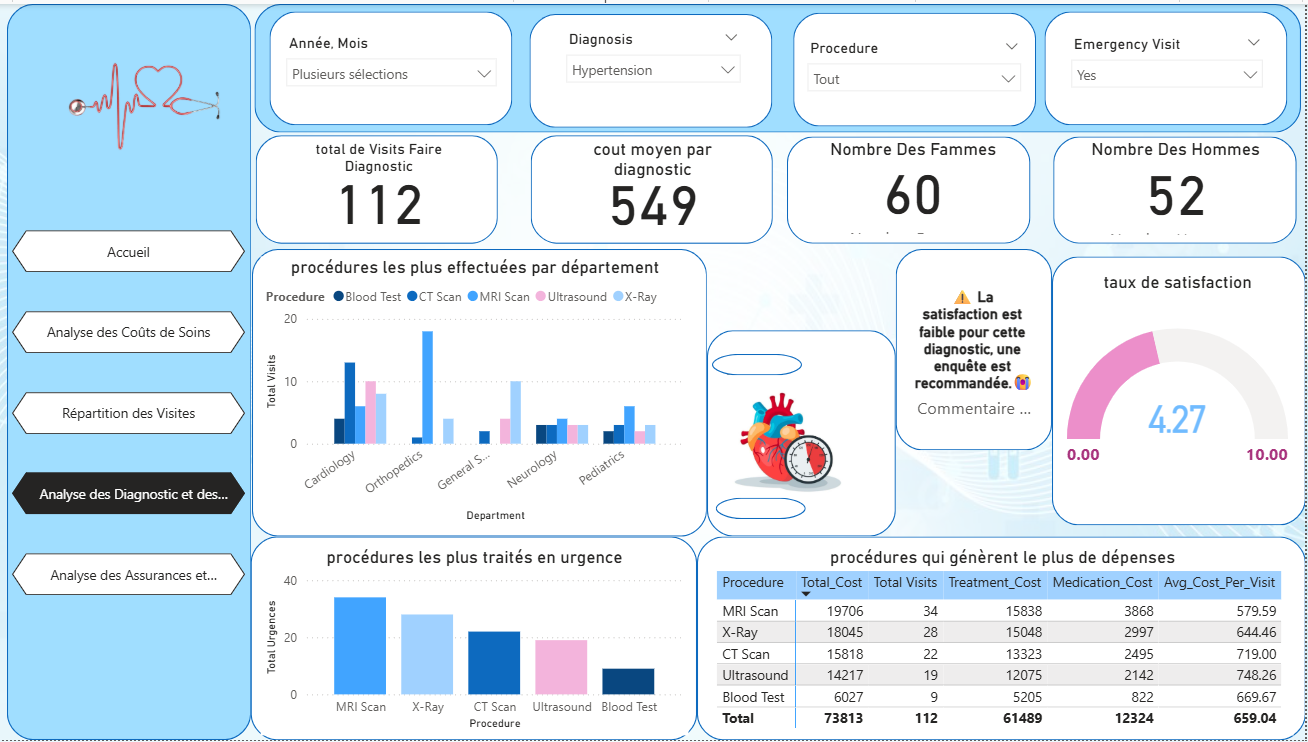

This screenshot's page, from the dashboard's own definition file:
{"tool":"powerbi","page":{"name":" Analyse des Diagnostic et des Procedures","canvas":[1280,720],"ordinal":3},"visuals":[{"type":"shape","box":[10,0,238.8,720],"z":0},{"type":"shape","box":[251.6,0,1023.7,125.8],"z":1000},{"type":"image","box":[41.2,31.2,207.5,127.5],"z":2000},{"type":"shape","box":[1033.6,129.5,238,104.8],"z":3000},{"type":"shape","box":[773.3,129.5,238,104.8],"z":4000},{"type":"shape","box":[521.7,128.3,236.8,106.1],"z":5000},{"type":"shape","box":[252.8,128.3,236.8,106.1],"z":6000},{"type":"card","title":"Nombre Des Hommes","fields":{"Values":["Fait_visits.Nombre_Hommes"]},"box":[1058,131.7,190.7,98.8],"z":7000},{"type":"card","title":"     Nombre Des Fammes","fields":{"Values":["Fait_visits.Nombre_Femmes"]},"box":[801,132.1,190.8,97.8],"z":8000},{"type":"card","title":"total de Visits Faire Diagnostic","fields":{"Values":["Fait_visits.Total Visits"]},"box":[272.7,133.3,201.8,97.8],"z":9000},{"type":"shape","box":[1025,7.5,237.5,111.2],"z":10000},{"type":"shape","box":[778.8,8.8,237.5,111.2],"z":11000},{"type":"slicer","fields":{"Values":["Dim_procedures.Procedure"]},"box":[782.2,28.8,229.2,64.5],"z":12000},{"type":"shape","box":[521.2,10,237.5,111.2],"z":13000},{"type":"shape","box":[266.2,7.5,237.5,111.2],"z":14000},{"type":"slicer","fields":{"Values":["Fait_visits.Date of Visit.Variation.Hiérarchie de dates.Année","Fait_visits.Date of Visit.Variation.Hiérarchie de dates.Mois"]},"box":[272.7,24.5,226.2,74.6],"z":15000},{"type":"shape","box":[249.5,239.7,445.1,281.3],"z":16000},{"type":"shape","box":[879.2,239.7,152.9,196.9],"z":17000},{"type":"shape","box":[694.6,319.2,184.6,201.8],"z":18000},{"type":"shape","box":[684.5,520.7,595.5,199.3],"z":19000},{"type":"shape","box":[248.2,520.7,436.6,199.3],"z":20000},{"type":"pivotTable","title":"procédures qui génèrent le plus de dépenses","fields":{"Values":["Dim_diagnoses.Total_Cost","Fait_visits.Total Visits","Dim_diagnoses.Treatment_Cost","Dim_diagnoses.Medication_Cost","Dim_diagnoses.Avg_Cost_Per_Visit"],"Rows":["Dim_procedures.Procedure"]},"box":[699.5,530.7,568.6,184.6],"z":21000},{"type":"clusteredColumnChart","title":"procédures les plus effectuées par département","fields":{"Series":["Dim_procedures.Procedure"],"Y":["Fait_visits.Total Visits"],"Category":["Dim_departments.Department"]},"box":[258,247,419.4,264.1],"z":22000},{"type":"clusteredColumnChart","title":"procédures les plus traités en urgence","fields":{"Y":["Dim_diagnoses.Total Urgences"],"Category":["Dim_procedures.Procedure"]},"box":[258,530.7,418.2,184.6],"z":23000},{"type":"shape","box":[1031.8,247,248.2,262.9],"z":24000},{"type":"gauge","title":"taux de satisfaction","fields":{"Y":["Dim_diagnoses.Taux satisfacrtion"]},"box":[1041.9,261.7,226.2,232.3],"z":25000},{"type":"slicer","fields":{"Values":["Dim_diagnoses.Diagnosis"]},"box":[546.6,20.8,190.8,89.3],"z":26000},{"type":"tableEx","fields":{"Values":["Dim_diagnoses.ImageURL","select"]},"box":[703.1,332.6,168.8,176.1],"z":27000},{"type":"shape","box":[699.5,342.4,88,20.8],"z":28000},{"type":"shape","box":[703.1,483,88,20.8],"z":29000},{"type":"card","fields":{"Values":["Dim_diagnoses.Commentaire Satisfaction"]},"box":[892.7,251.9,127.2,173.6],"z":30000},{"type":"slicer","fields":{"Values":["Fait_visits.Emergency Visit"]},"box":[1040.6,25.7,207.9,73.4],"z":31000},{"type":"pageNavigator","box":[15.2,221.4,229,358],"z":32000},{"type":"card","title":"cout moyen par diagnostic","fields":{"Values":["Fait_visits.Coût moyen par diagnostic"]},"box":[542.9,132.1,196.9,97.8],"z":33000}]}

Visuals, with their boxes on the page's 1280x720 design canvas (x1, y1, x2, y2). These are canvas units, not pixel positions in the 1308x742 screenshot, which may show the page scaled, cropped or inside an application window:
shape: {"x1": 10, "y1": 0, "x2": 249, "y2": 720}
shape: {"x1": 252, "y1": 0, "x2": 1275, "y2": 126}
image: {"x1": 41, "y1": 31, "x2": 249, "y2": 159}
shape: {"x1": 1034, "y1": 130, "x2": 1272, "y2": 234}
shape: {"x1": 773, "y1": 130, "x2": 1011, "y2": 234}
shape: {"x1": 522, "y1": 128, "x2": 758, "y2": 234}
shape: {"x1": 253, "y1": 128, "x2": 490, "y2": 234}
"Nombre Des Hommes" card: {"x1": 1058, "y1": 132, "x2": 1249, "y2": 230}
"     Nombre Des Fammes" card: {"x1": 801, "y1": 132, "x2": 992, "y2": 230}
"total de Visits Faire Diagnostic" card: {"x1": 273, "y1": 133, "x2": 474, "y2": 231}
shape: {"x1": 1025, "y1": 8, "x2": 1262, "y2": 119}
shape: {"x1": 779, "y1": 9, "x2": 1016, "y2": 120}
slicer - Dim_procedures.Procedure: {"x1": 782, "y1": 29, "x2": 1011, "y2": 93}
shape: {"x1": 521, "y1": 10, "x2": 759, "y2": 121}
shape: {"x1": 266, "y1": 8, "x2": 504, "y2": 119}
slicer - Fait_visits.Date of Visit.Variation.Hiérarchie de dates.Année x Fait_visits.Date of Visit.Variation.Hiérarchie de dates.Mois: {"x1": 273, "y1": 24, "x2": 499, "y2": 99}
shape: {"x1": 250, "y1": 240, "x2": 695, "y2": 521}
shape: {"x1": 879, "y1": 240, "x2": 1032, "y2": 437}
shape: {"x1": 695, "y1": 319, "x2": 879, "y2": 521}
shape: {"x1": 684, "y1": 521, "x2": 1280, "y2": 720}
shape: {"x1": 248, "y1": 521, "x2": 685, "y2": 720}
"procédures qui génèrent le plus de dépenses" pivotTable: {"x1": 700, "y1": 531, "x2": 1268, "y2": 715}
"procédures les plus effectuées par département" clusteredColumnChart: {"x1": 258, "y1": 247, "x2": 677, "y2": 511}
"procédures les plus traités en urgence" clusteredColumnChart: {"x1": 258, "y1": 531, "x2": 676, "y2": 715}
shape: {"x1": 1032, "y1": 247, "x2": 1280, "y2": 510}
"taux de satisfaction" gauge: {"x1": 1042, "y1": 262, "x2": 1268, "y2": 494}
slicer - Dim_diagnoses.Diagnosis: {"x1": 547, "y1": 21, "x2": 737, "y2": 110}
tableEx - Dim_diagnoses.ImageURL x select: {"x1": 703, "y1": 333, "x2": 872, "y2": 509}
shape: {"x1": 700, "y1": 342, "x2": 788, "y2": 363}
shape: {"x1": 703, "y1": 483, "x2": 791, "y2": 504}
card - Dim_diagnoses.Commentaire Satisfaction: {"x1": 893, "y1": 252, "x2": 1020, "y2": 426}
slicer - Fait_visits.Emergency Visit: {"x1": 1041, "y1": 26, "x2": 1248, "y2": 99}
pageNavigator: {"x1": 15, "y1": 221, "x2": 244, "y2": 579}
"cout moyen par diagnostic" card: {"x1": 543, "y1": 132, "x2": 740, "y2": 230}
